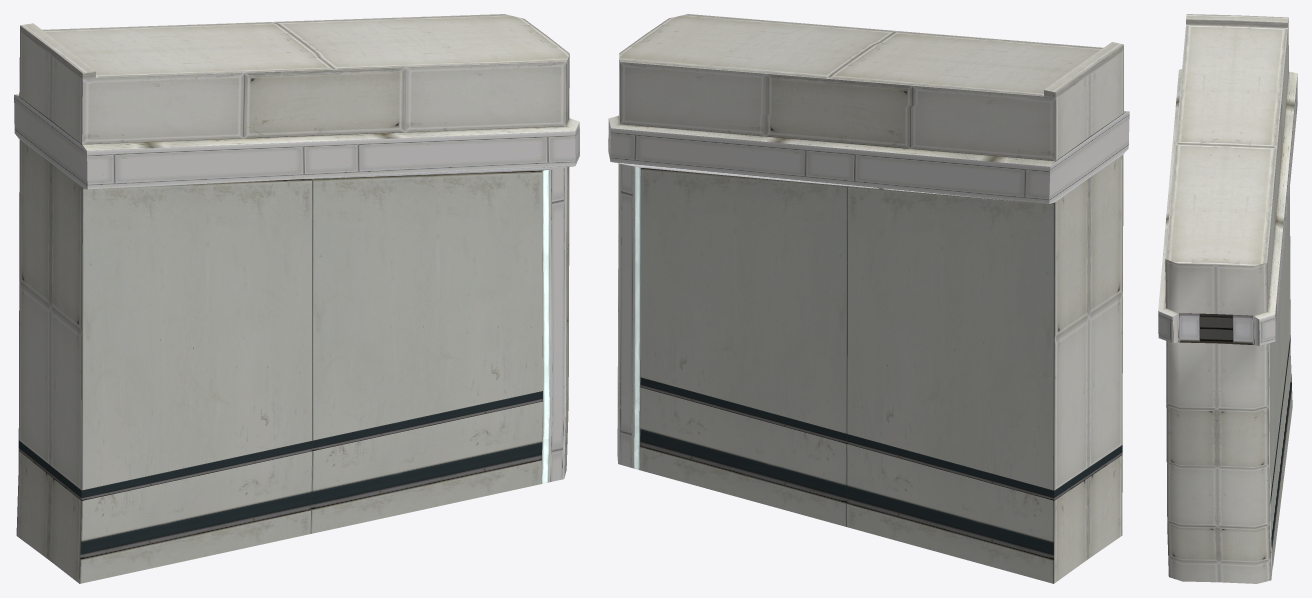
The model's file is STA20_blockerbeam.FBX.
The picture shows the model from 3 angles, left to right: view 1: azimuth 30°, elevation 25°; view 2: azimuth 150°, elevation 25°; view 3: azimuth 270°, elevation 25°; orthographic projection. The views are drawn at different scales.
Visible parts, largest first — view 1: STA20_blockerbeam; view 2: STA20_blockerbeam; view 3: STA20_blockerbeam.
Boxes of the visible parts, x1,y1,x2,y2 form: STA20_blockerbeam: (14, 14, 579, 583); STA20_blockerbeam: (608, 14, 1129, 583); STA20_blockerbeam: (1158, 14, 1297, 583).
Size of the model in its own units: 8.02 by 8.01 by 2.59.
